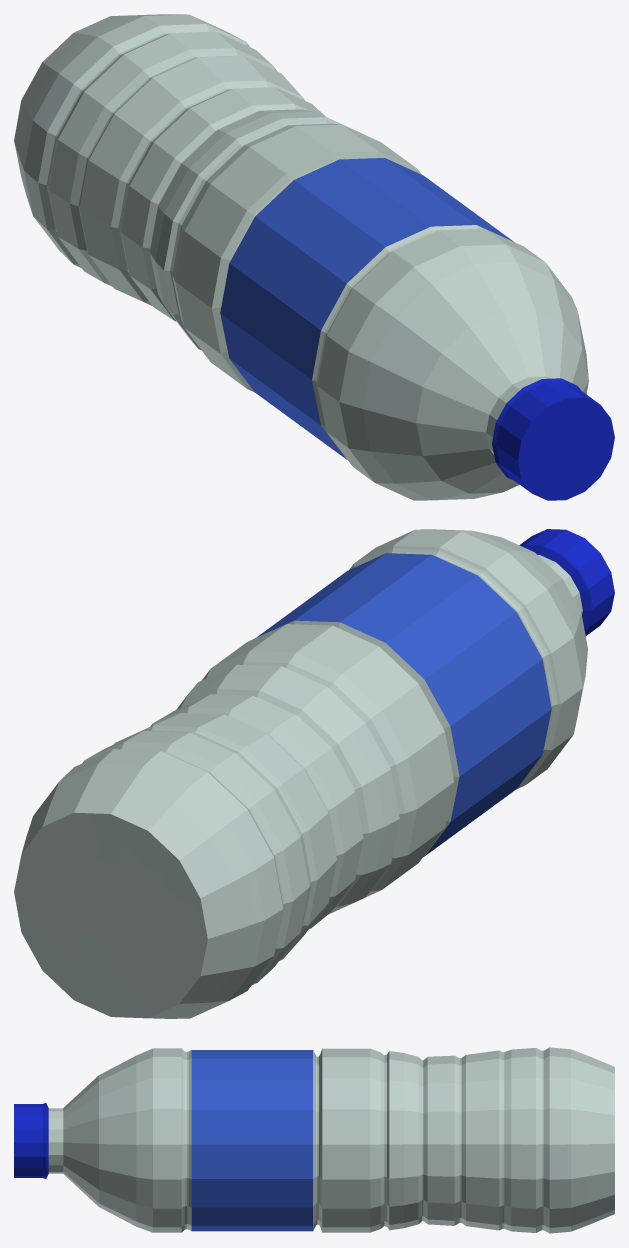
Rendered from water_bottle.obj.
3 renders of one model, top to bottom at view 1: azimuth 30°, elevation 25°; view 2: azimuth 150°, elevation 25°; view 3: azimuth 270°, elevation 25°, orthographic. The views are drawn at different scales.
Parts seen in each view (by area): view 1: Bottle, Wrap, Cap; view 2: Bottle, Wrap, Cap; view 3: Bottle, Wrap, Cap.
Boxes of the visible parts, x1,y1,x2,y2 form: Bottle: [14, 14, 588, 500]; Wrap: [220, 158, 513, 459]; Cap: [492, 378, 614, 500]; Bottle: [14, 529, 587, 1018]; Wrap: [256, 553, 551, 855]; Cap: [519, 529, 614, 635]; Bottle: [48, 1047, 614, 1233]; Wrap: [191, 1050, 312, 1231]; Cap: [14, 1103, 48, 1178].
Size of the model in its own units: 0.0698 by 0.0698 by 0.2249.
